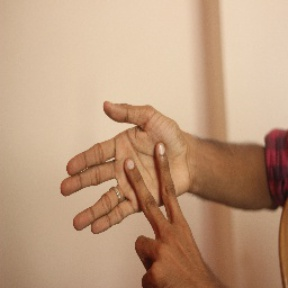N: (55, 97, 211, 282)
